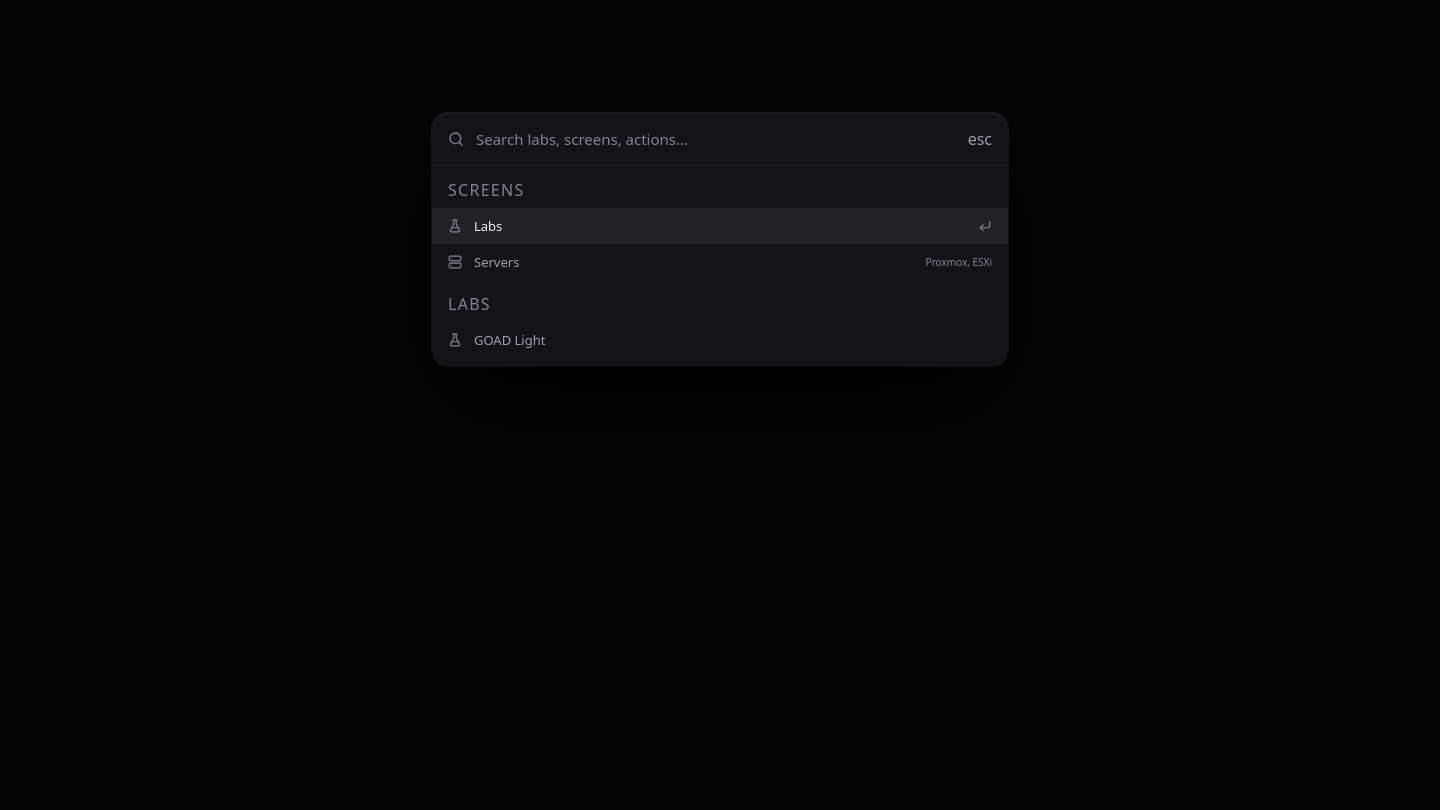
CommandPalette › is a combobox over a listbox, the active option named by aria-activedescendant
Check: the options read "Labs", "ServersProxmox, ESXi", "GOAD Light", in this order, box [432,208,1008,244]; [448,253,992,271]; [448,331,545,349]
Press Arrowdown
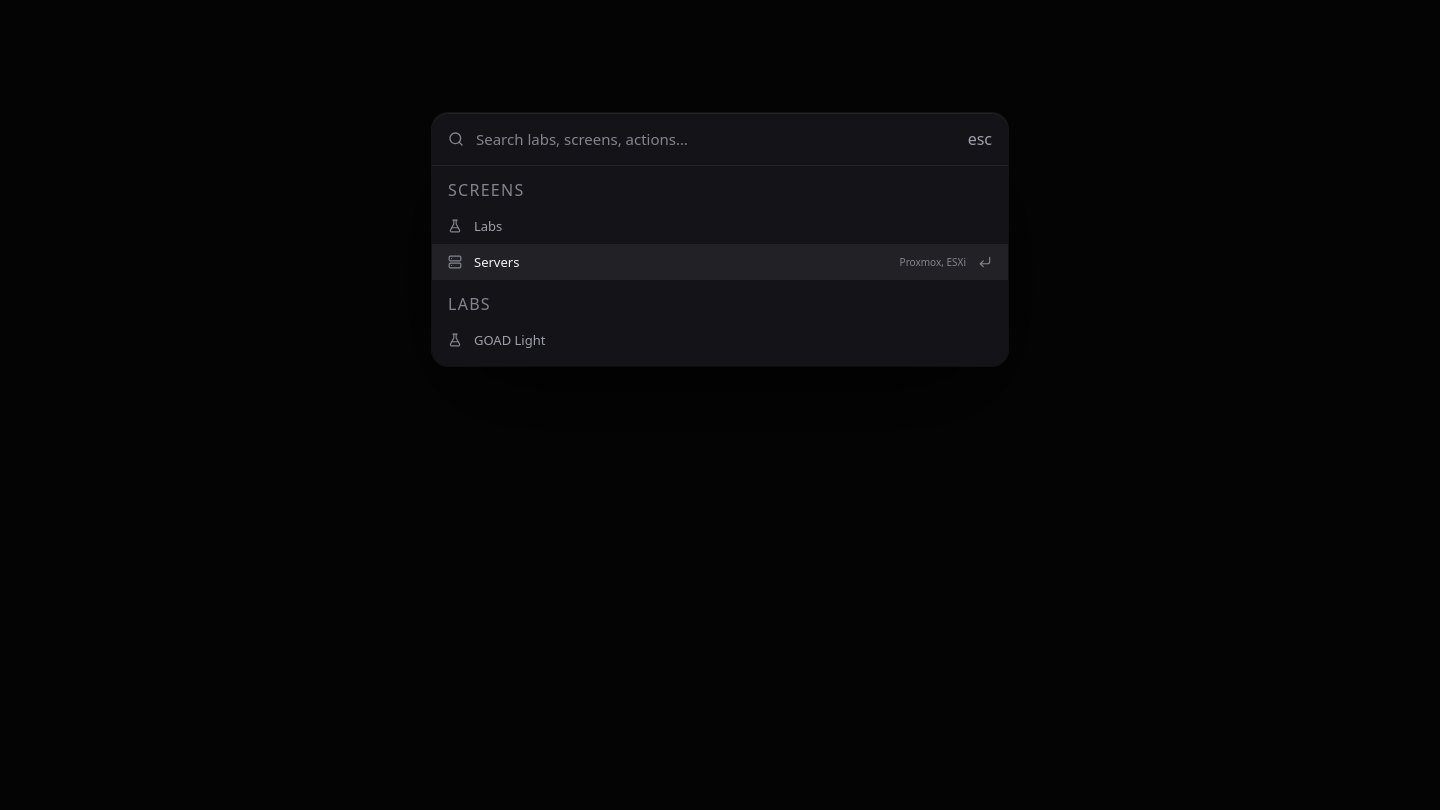
Check: the option "Servers Proxmox, ESXi" is selected, box [432,244,1008,280]
Check: the option "Labs" is not selected, box [448,217,502,235]
# Nothing matches: no list, the field says it is collapsed and points nowhere.
Type "zzz" into the dropdown at (716, 139), box [476,113,956,165]
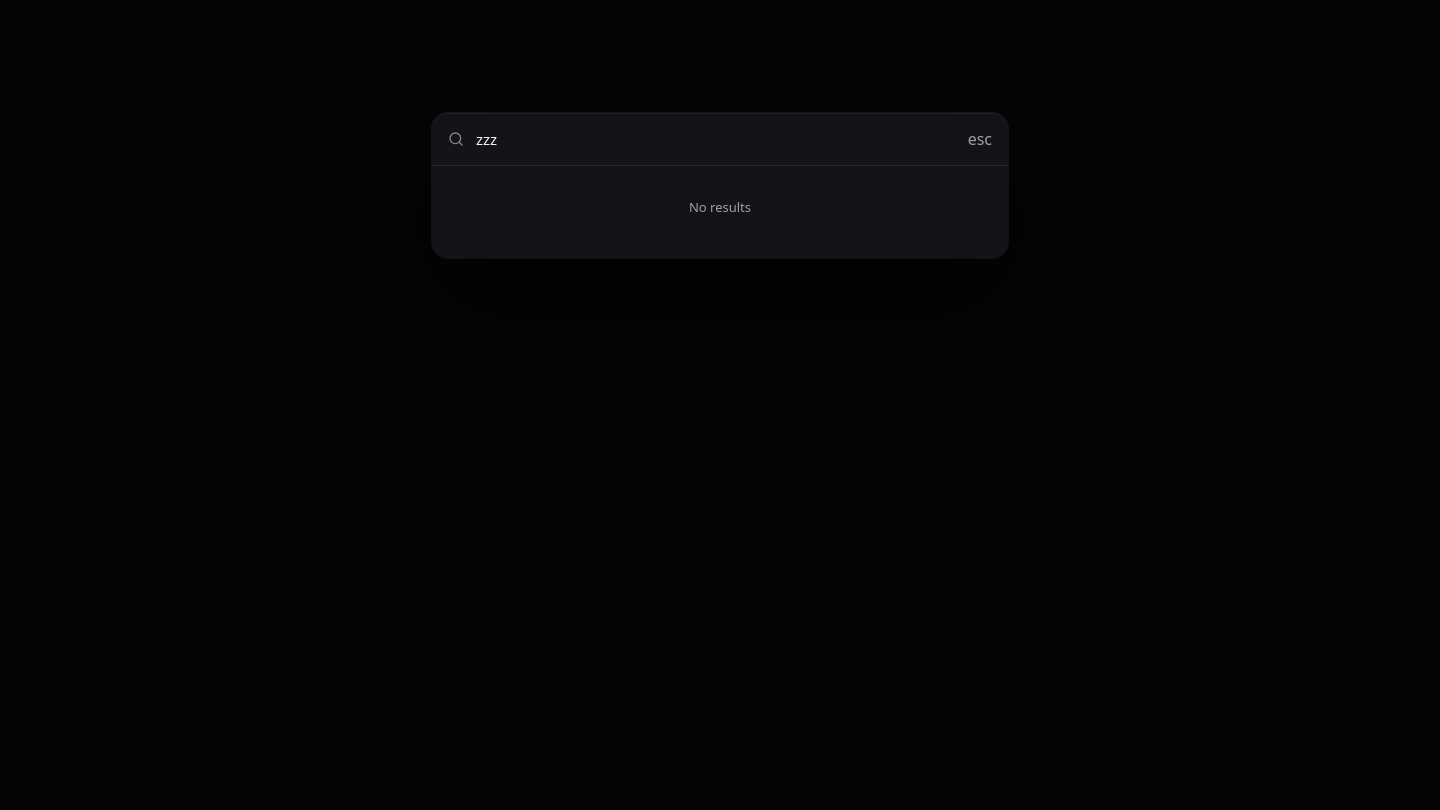
Check: the list is gone
Check: the dropdown is collapsed, box [476,113,956,165]
Check: the message shows "No", box [689,198,751,216]
